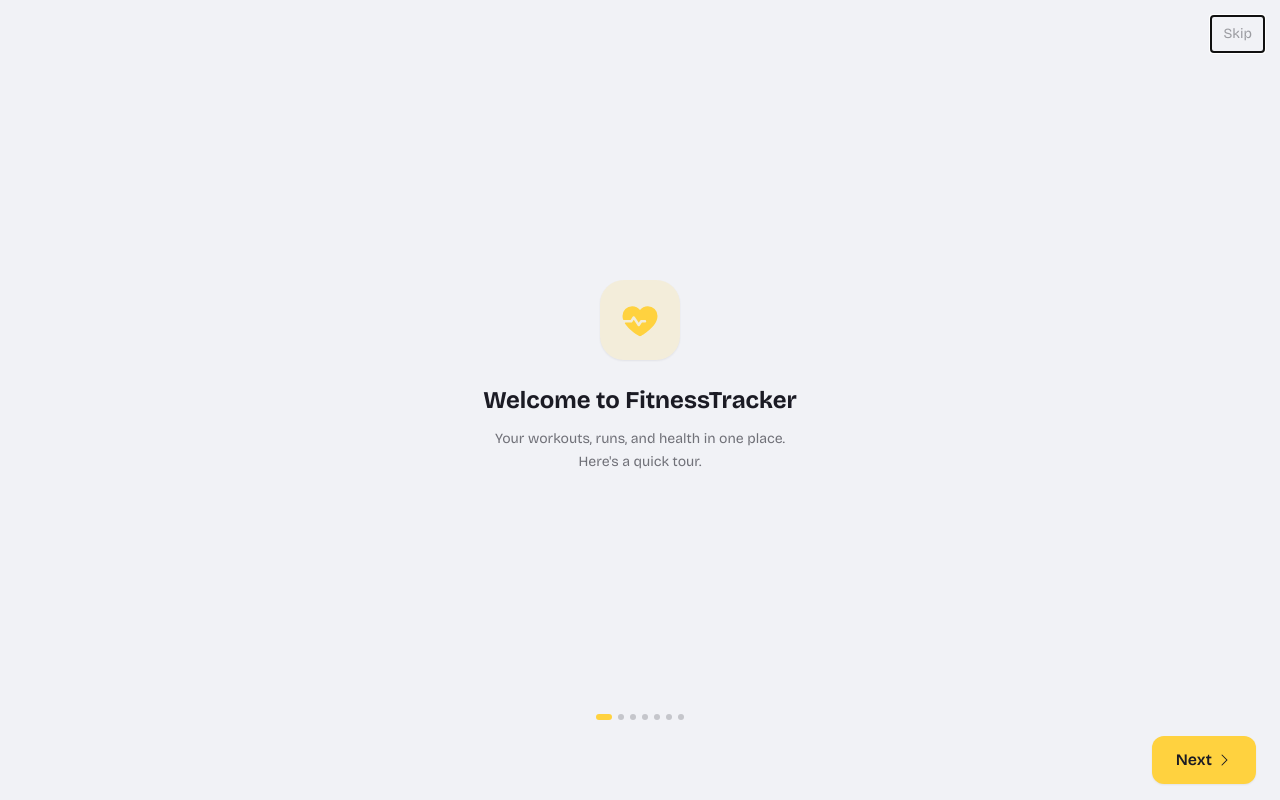
Onboarding › advances through all slides to the final one
Click the button "Next" at (1204, 760), box [1152,736,1256,784]
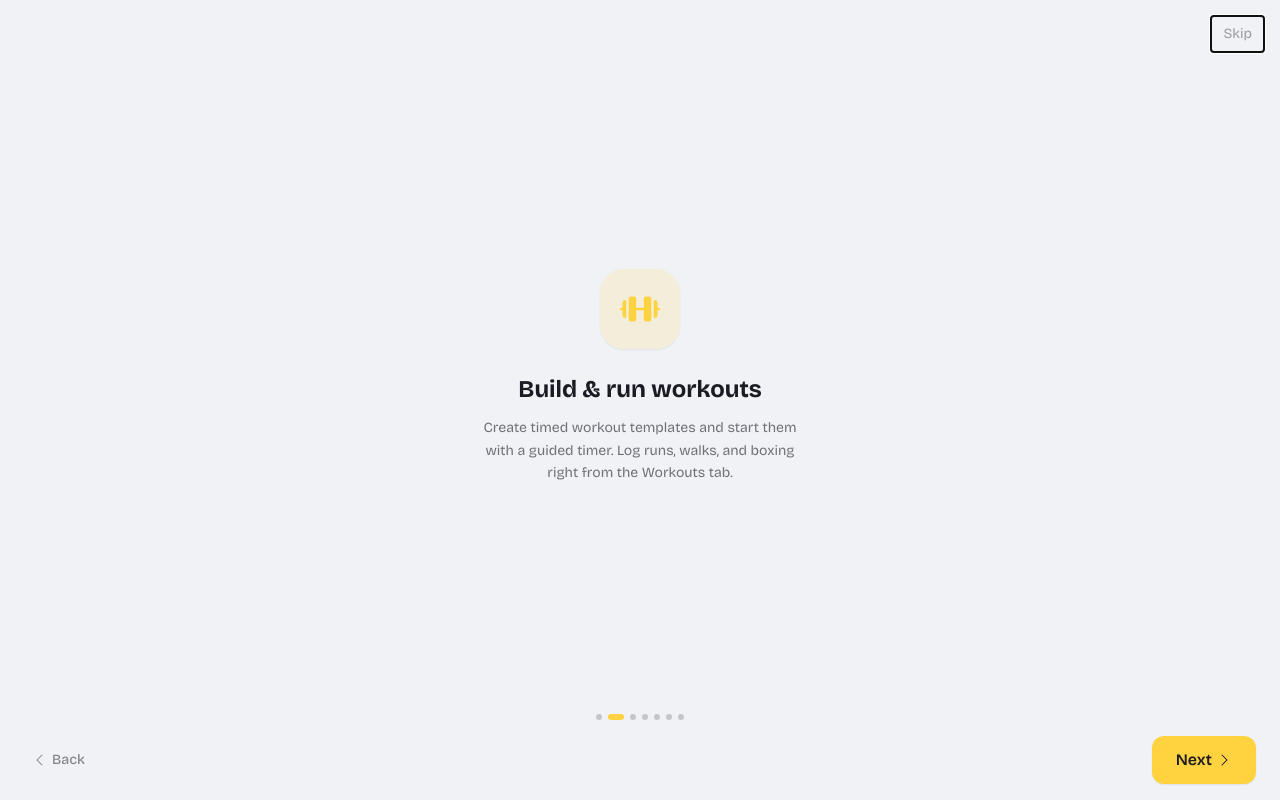
Click the button "Next" at (1204, 760), box [1152,736,1256,784]
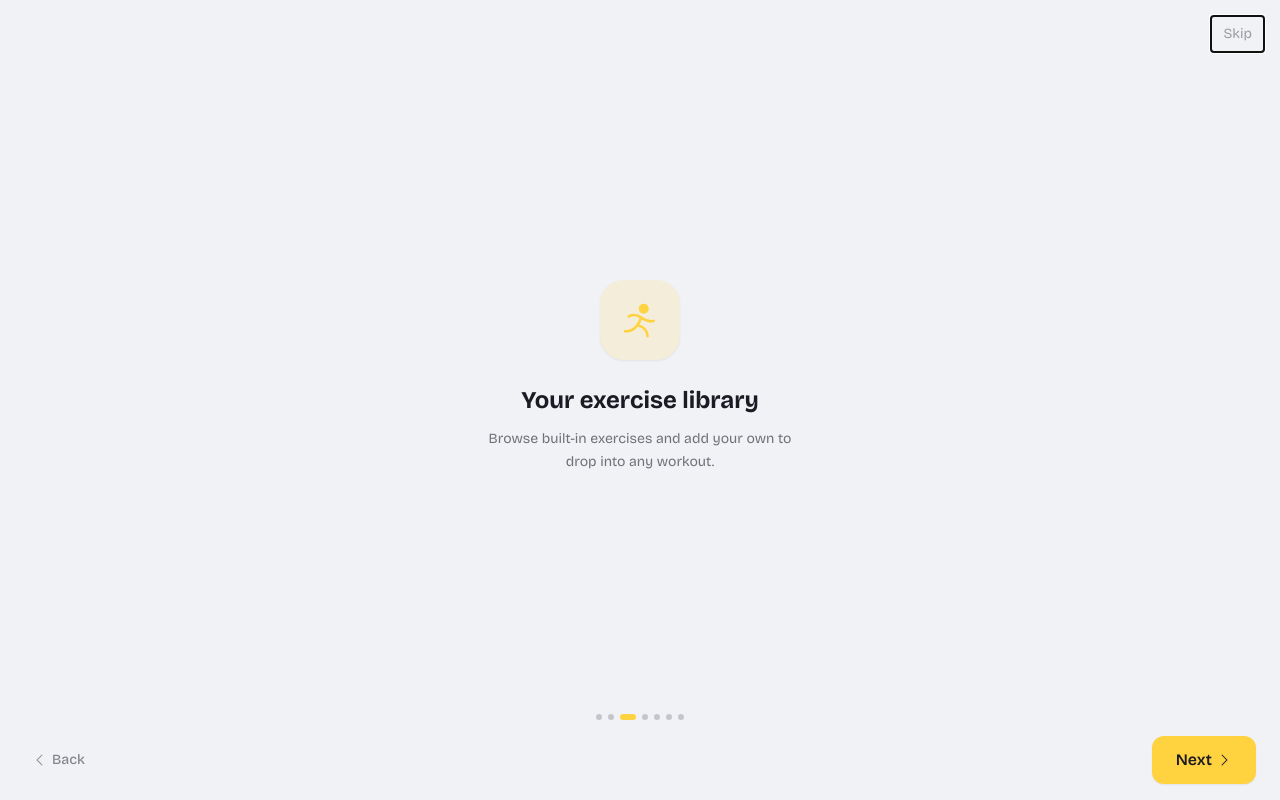
Click the button "Next" at (1204, 760), box [1152,736,1256,784]
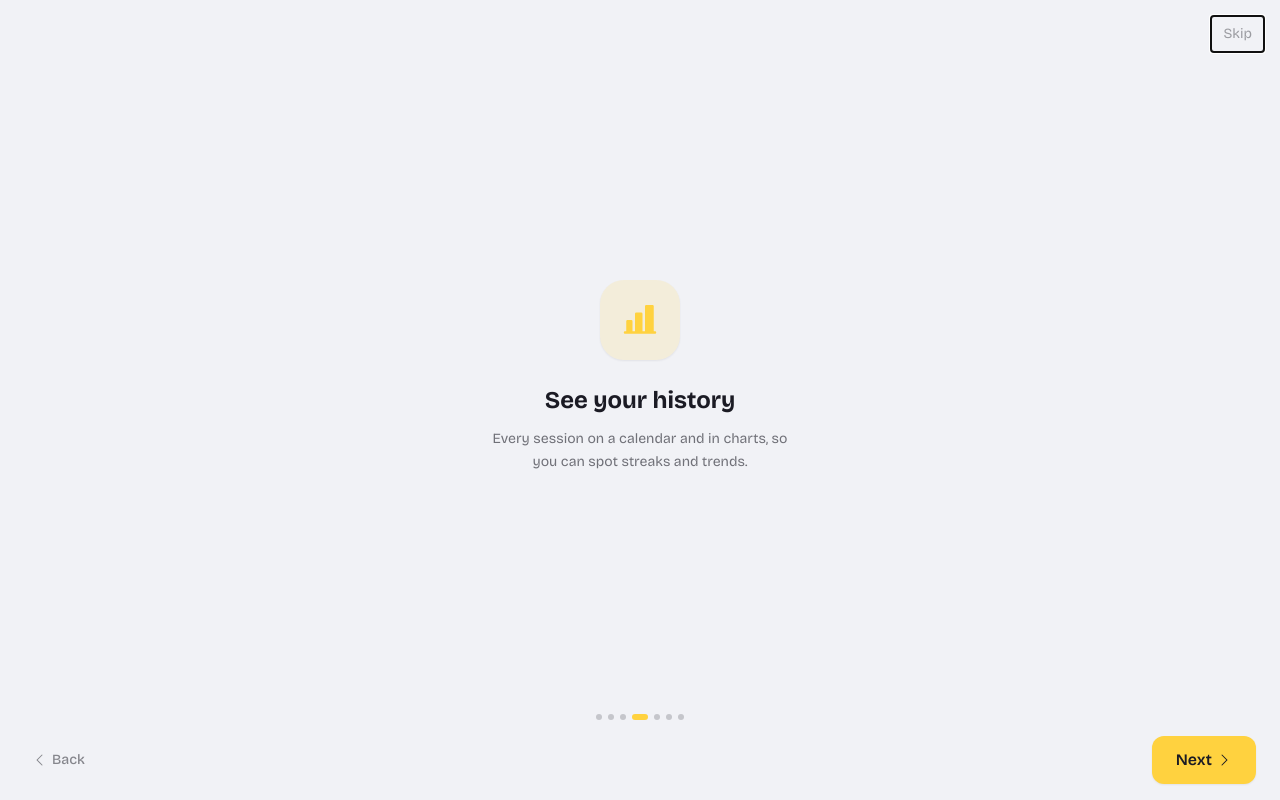
Click the button "Next" at (1204, 760), box [1152,736,1256,784]
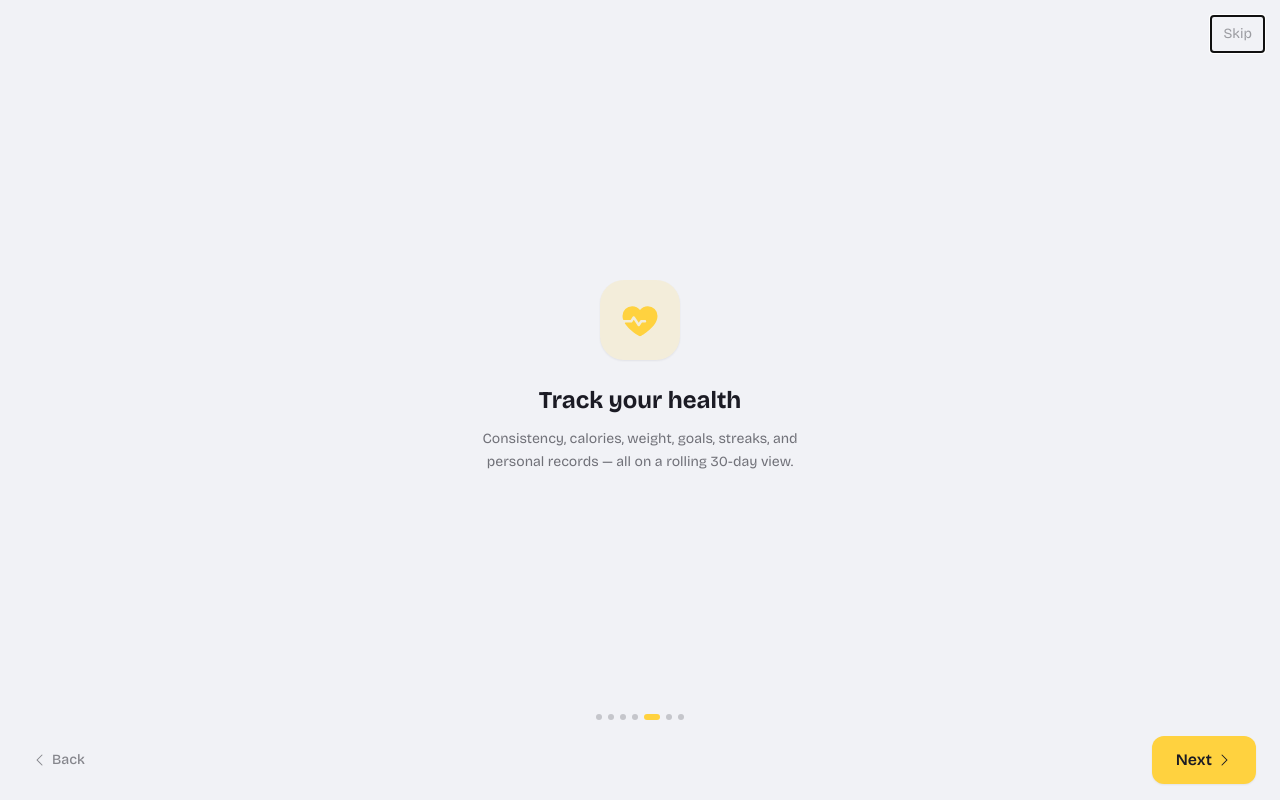
Click the button "Next" at (1204, 760), box [1152,736,1256,784]
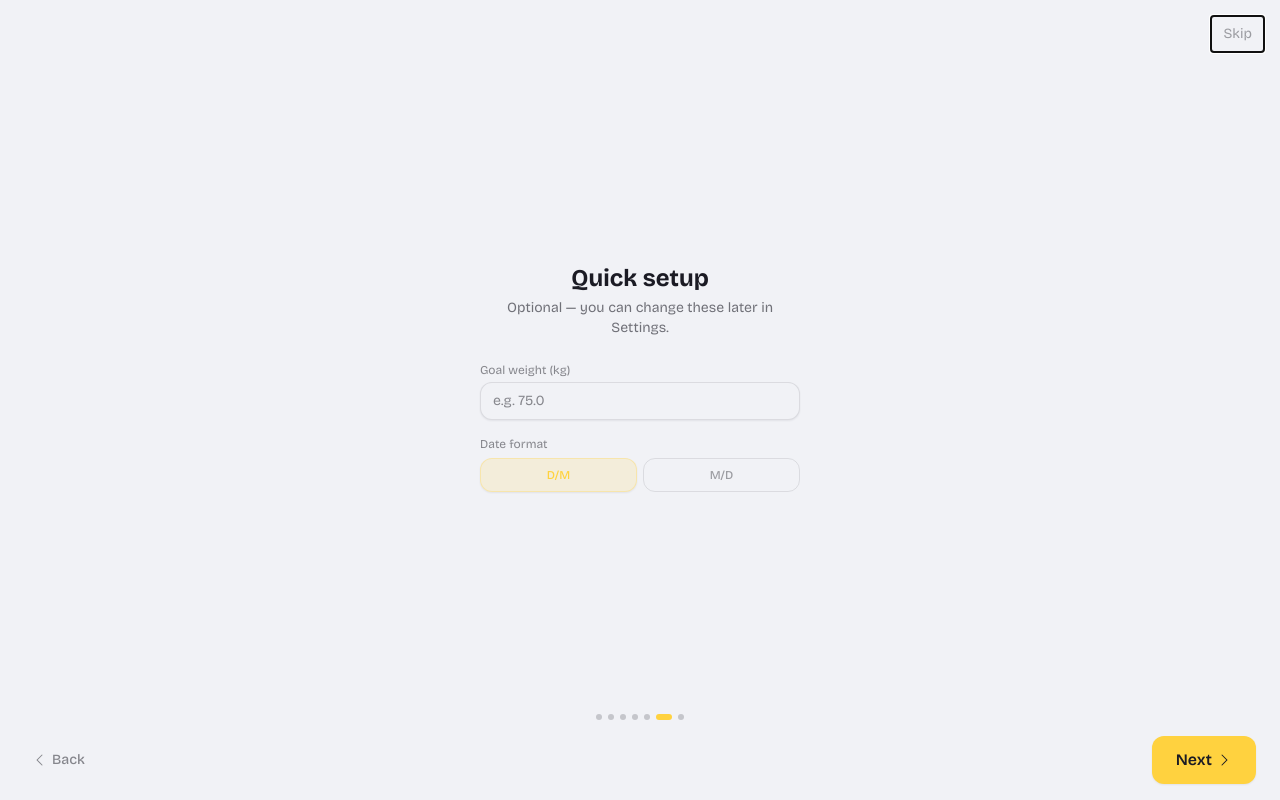
Click the button "Next" at (1204, 760), box [1152,736,1256,784]
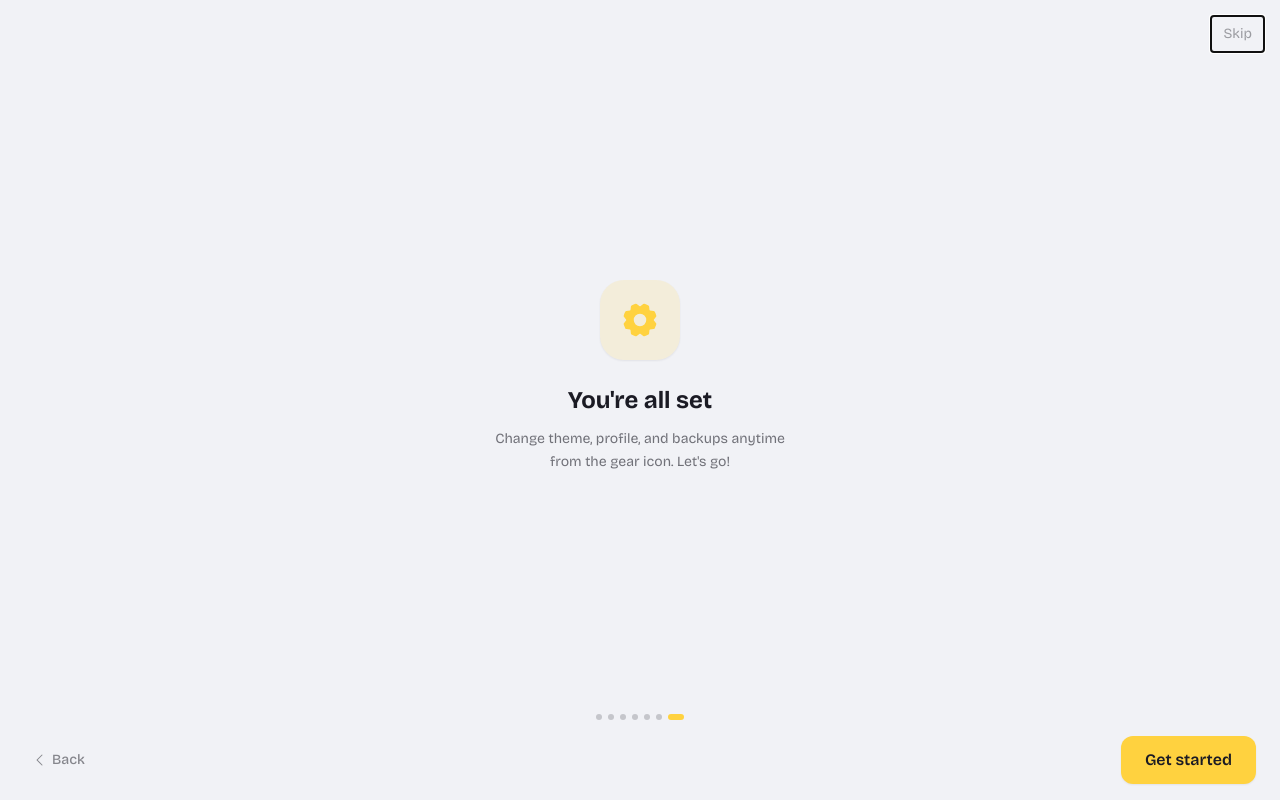
Result: the heading "You're all set" is shown at [568,384,712,416]
Result: the button "Get started" is shown at [1121,736,1256,784]
